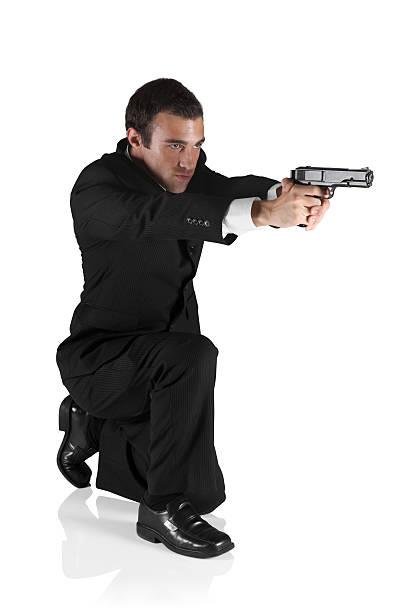weapon: (276, 161, 377, 227)
